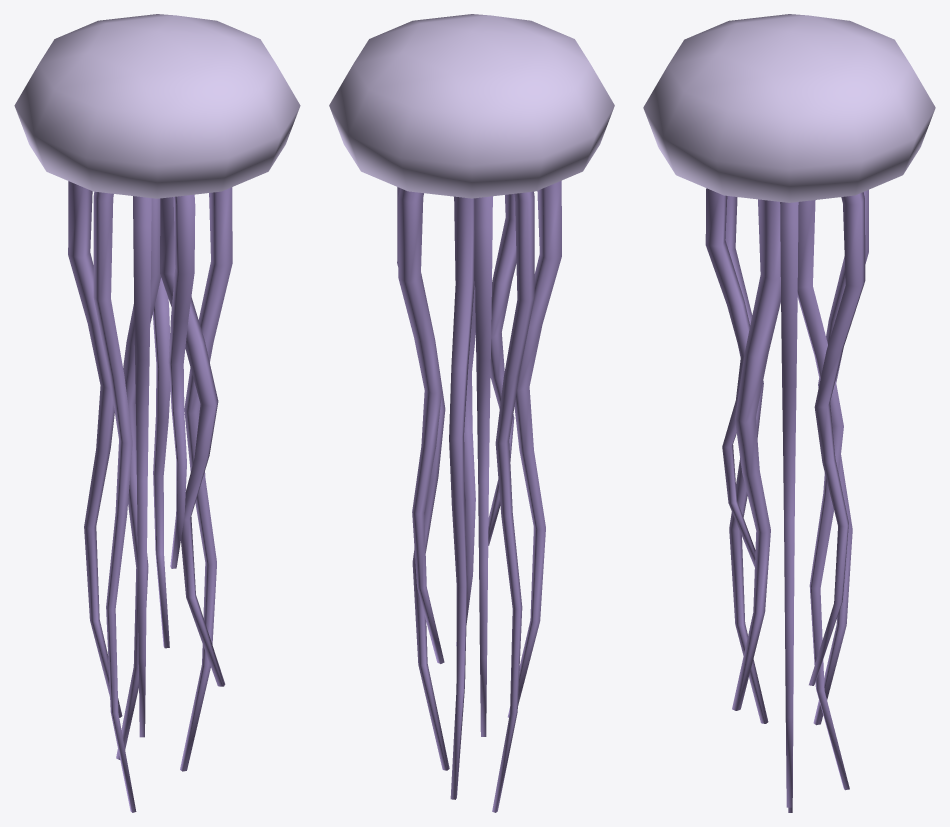
The model's file is jellyfish.fbx.
The picture shows the model from 3 angles, left to right: view 1: azimuth 30°, elevation 25°; view 2: azimuth 150°, elevation 25°; view 3: azimuth 270°, elevation 25°; orthographic projection. The views are drawn at different scales.
Visible parts, largest first — view 1: Medusa_001; view 2: Medusa_001; view 3: Medusa_001.
Boxes of the visible parts, box(x1,y1,x2,y2) form: Medusa_001: box(14, 14, 300, 812); Medusa_001: box(329, 14, 614, 812); Medusa_001: box(643, 14, 935, 812).
Bounding box in the file's own units: 61.91 × 185 × 61.91.
